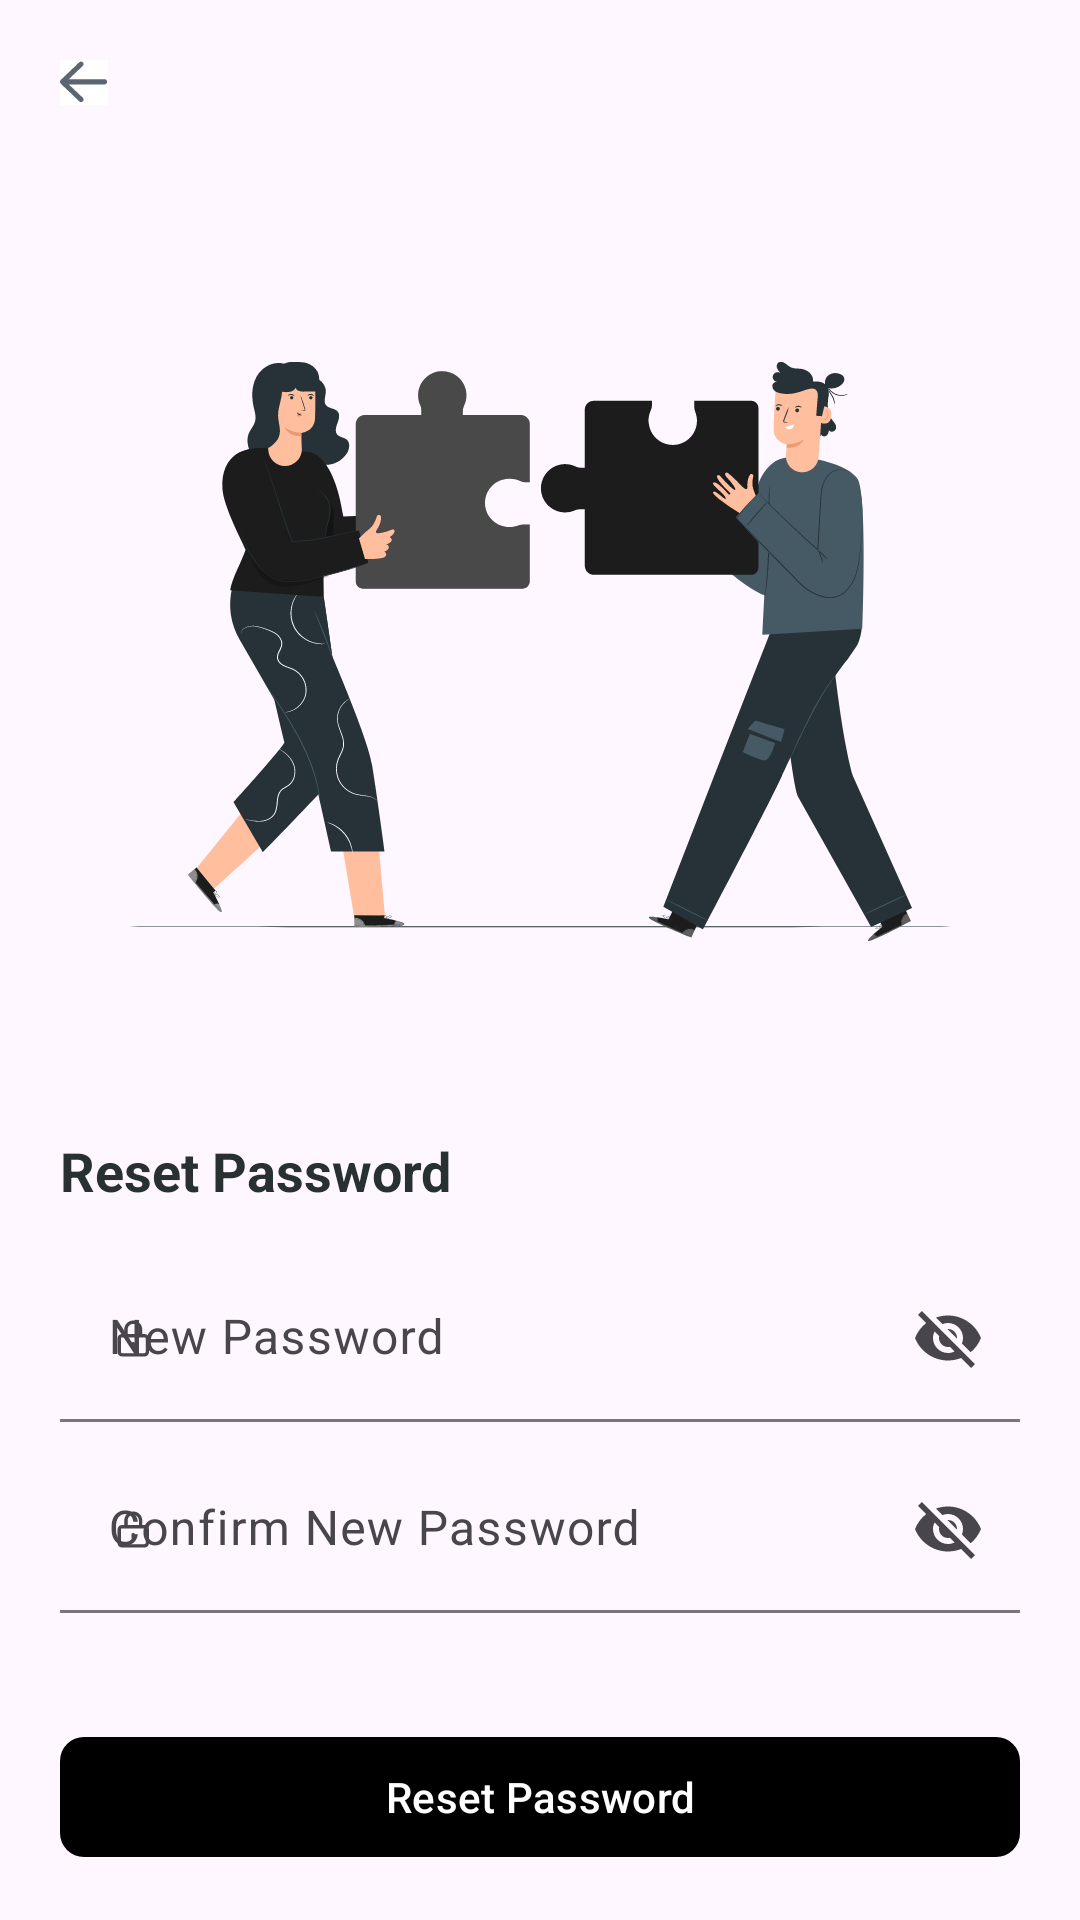

Where to tap for icons on this 1080 x 1920 app screen, as (x,y):
back: (83,81)
